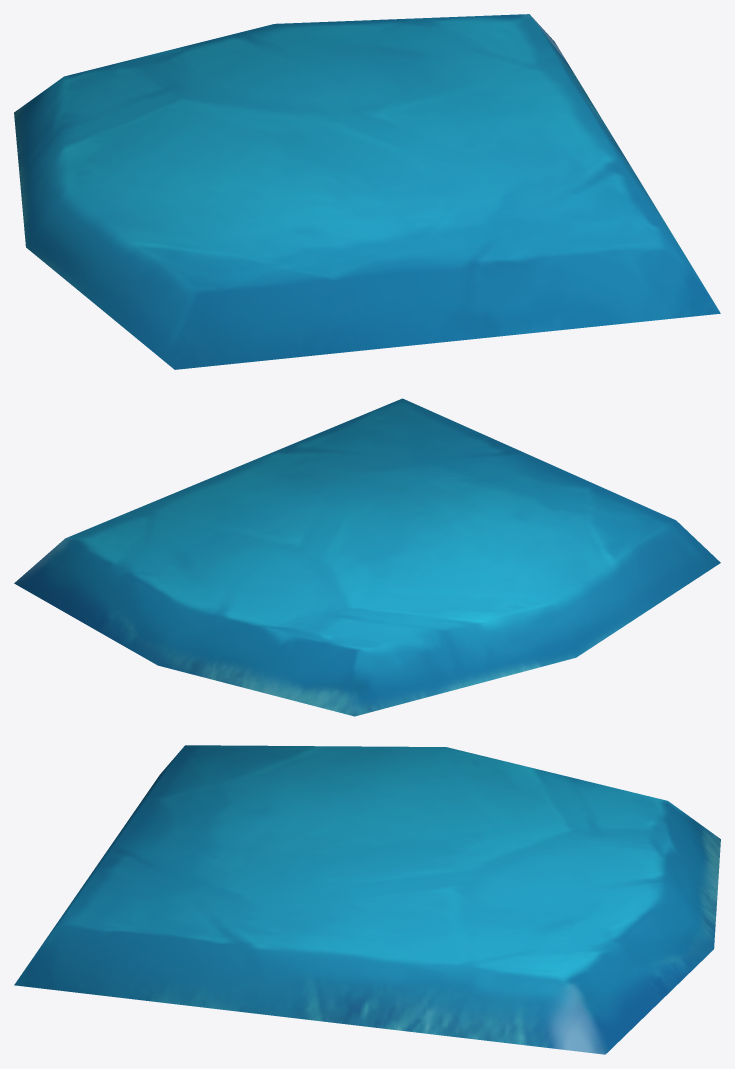
File: BingYingZhong_Bing_13.fbx
3 renders of one model, top to bottom at view 1: azimuth 30°, elevation 25°; view 2: azimuth 150°, elevation 25°; view 3: azimuth 270°, elevation 25°, orthographic. The views are drawn at different scales.
Visible parts, largest first — view 1: BingYingZhong_Bing_13; view 2: BingYingZhong_Bing_13; view 3: BingYingZhong_Bing_13.
Part boxes in pixels (box(x1,y1,x2,y2)): BingYingZhong_Bing_13: box(14, 14, 720, 369); BingYingZhong_Bing_13: box(14, 398, 720, 716); BingYingZhong_Bing_13: box(14, 745, 720, 1054).
Bounding box in the file's own units: 225 × 18 × 240.
